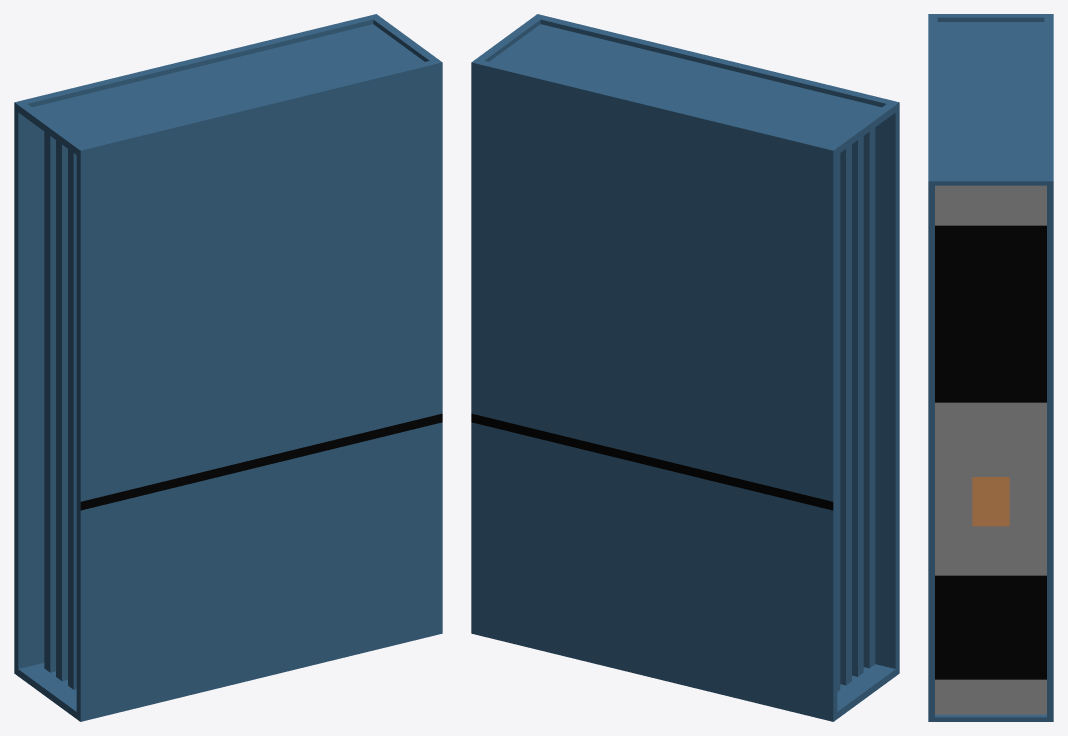
The model's file is kitapTek.fbx.
The picture shows the model from 3 angles, left to right: view 1: azimuth 30°, elevation 25°; view 2: azimuth 150°, elevation 25°; view 3: azimuth 270°, elevation 25°; orthographic projection. The views are drawn at different scales.
Parts seen in each view (by area): view 1: Cube; view 2: Cube; view 3: Cube.
Boxes of the visible parts, box(x1,y1,x2,y2) form: Cube: box(14, 14, 442, 721); Cube: box(471, 14, 899, 721); Cube: box(928, 14, 1053, 721).
Bounding box in the file's own units: 318 × 479 × 100.
